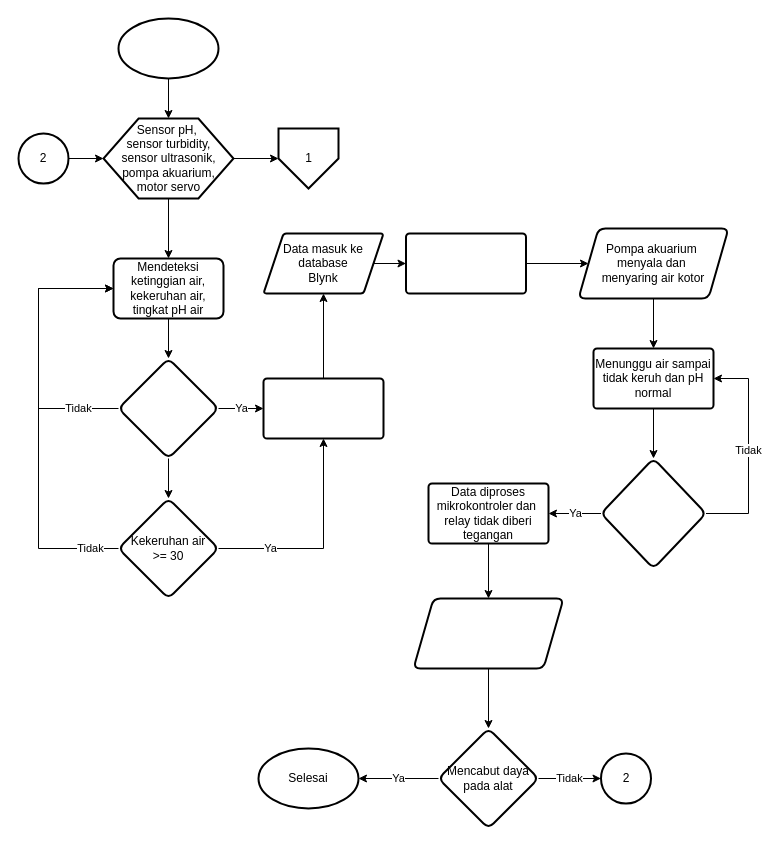
Some shapes in this 779 by 846 pixel diagram are drawn without their labels. The shapes that lost their labels are listed below. From the top down, each one's centre as x and y in pixels, then its label:
At point 168,48: "Mulai".
At point 465,263: "Data diproses mikrokontroler dan relay diberi tegangan".
At point 168,408: "Tingkat pH air <= 6.8 atau >= 7.4".
At point 323,408: "Data diproses mikrokontroler dan data dikirm ke database Blynk".
At point 653,513: "Kekeruhan < 30 dan pH >6.8 atau < 7.4".
At point 488,633: "Pompa akuarium mati".
